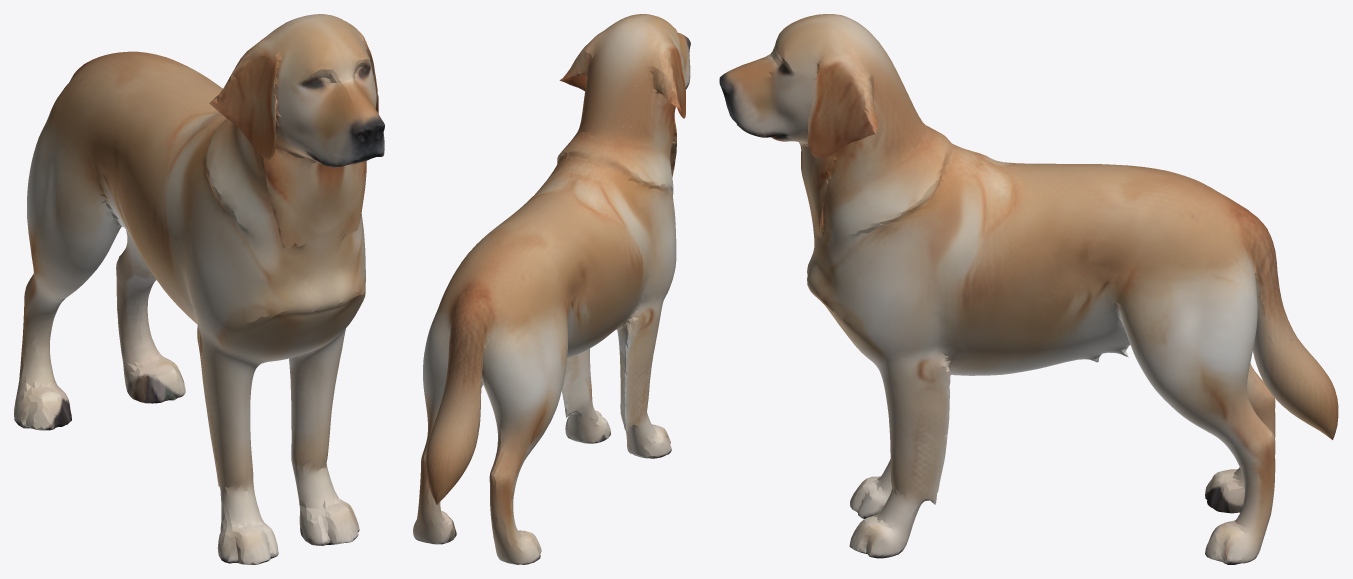
The model's file is dog_golden_retriever.glb.
The picture shows the model from 3 angles, left to right: view 1: azimuth 30°, elevation 25°; view 2: azimuth 150°, elevation 25°; view 3: azimuth 270°, elevation 25°; orthographic projection. The views are drawn at different scales.
Visible parts, largest first — view 1: model; view 2: model; view 3: model.
Part boxes in pixels (x1,y1,x2,y2): model: (14, 14, 384, 564); model: (413, 14, 690, 564); model: (719, 14, 1338, 564).
Size of the model in its own units: 0.5414 by 1.72 by 1.9.
Materials: 1 (1 with a texture image).
